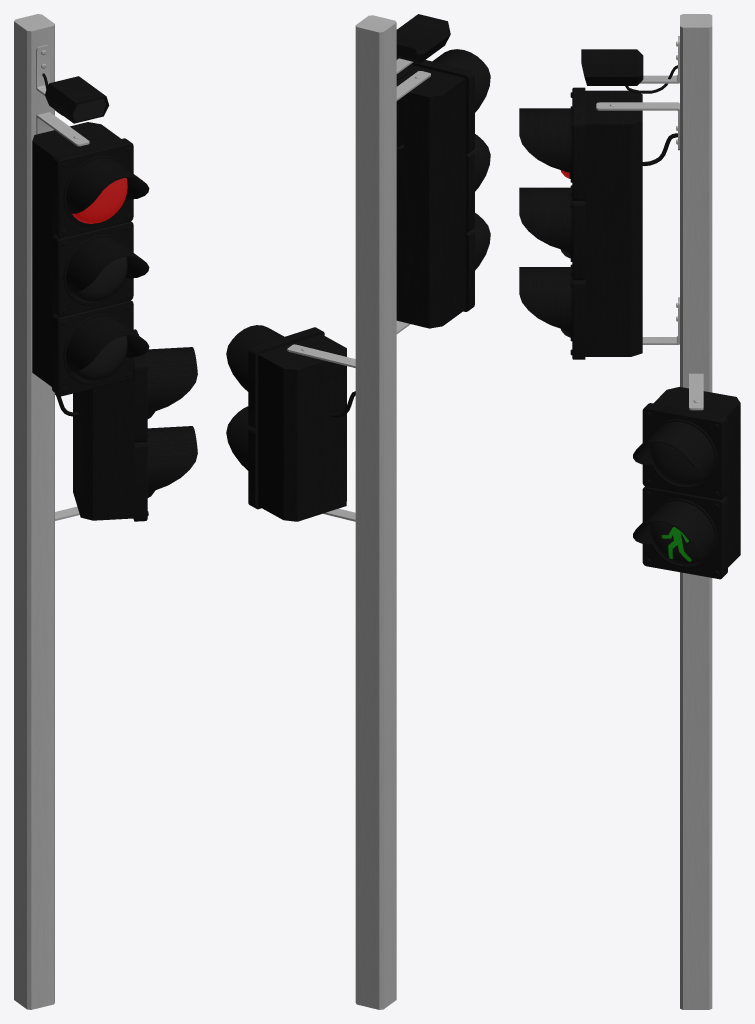
File: Example_1_Normal.fbx
3 views of the same model, side by side, from view 1: azimuth 30°, elevation 25°; view 2: azimuth 150°, elevation 25°; view 3: azimuth 270°, elevation 25° (orthographic).
Parts seen in each view (by area): view 1: rod, lightTrafficMain, lightPassengerMain, camera, lightTrafficArm; view 2: rod, lightTrafficMain, lightPassengerMain, camera, lightPassengerArm, lightTrafficArm; view 3: lightTrafficMain, rod, lightPassengerMain, camera, lightTrafficArm, lightPassengerArm.
Boxes of the visible parts, bbox=[...] form: rod: bbox=[14, 14, 54, 1009]; lightTrafficMain: bbox=[32, 122, 149, 396]; lightPassengerMain: bbox=[73, 329, 197, 521]; camera: bbox=[36, 44, 109, 123]; lightTrafficArm: bbox=[36, 112, 89, 146]; rod: bbox=[355, 15, 396, 1009]; lightTrafficMain: bbox=[396, 49, 490, 328]; lightPassengerMain: bbox=[226, 325, 346, 521]; camera: bbox=[396, 14, 450, 80]; lightPassengerArm: bbox=[287, 344, 355, 521]; lightTrafficArm: bbox=[396, 71, 430, 333]; lightTrafficMain: bbox=[519, 87, 642, 359]; rod: bbox=[680, 14, 712, 1009]; lightPassengerMain: bbox=[633, 387, 740, 579]; camera: bbox=[581, 36, 679, 93]; lightTrafficArm: bbox=[596, 102, 679, 344]; lightPassengerArm: bbox=[689, 373, 703, 410].
Bounding box in the file's own units: 101 × 496 × 101.
